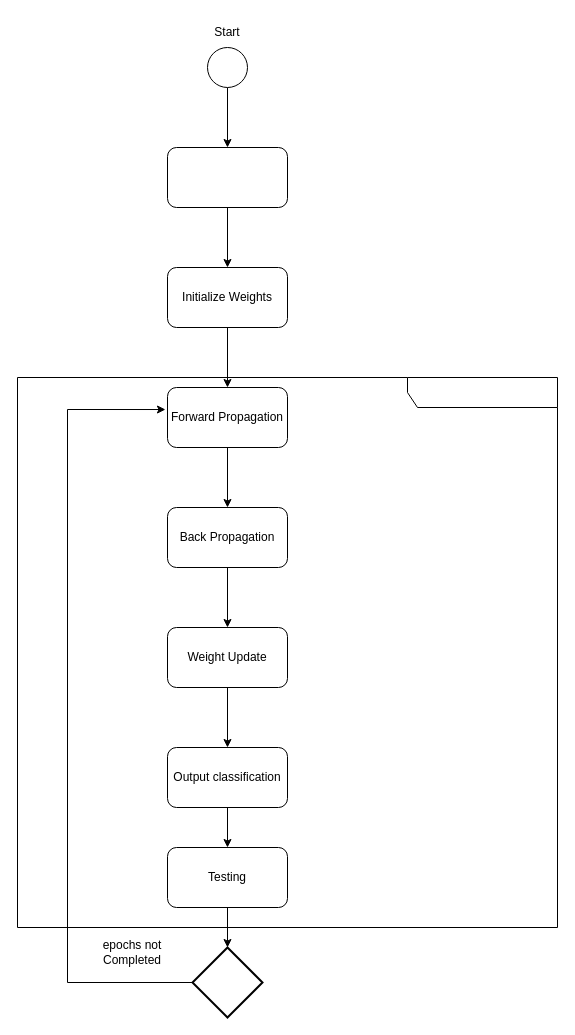
The diagram is 575 pixels wide and 1035 high, and some of its shapes have lost their labels. Each missing label, with the centre of its shape:
Define NN Structure: point (227, 177)
Training: point (287, 652)
